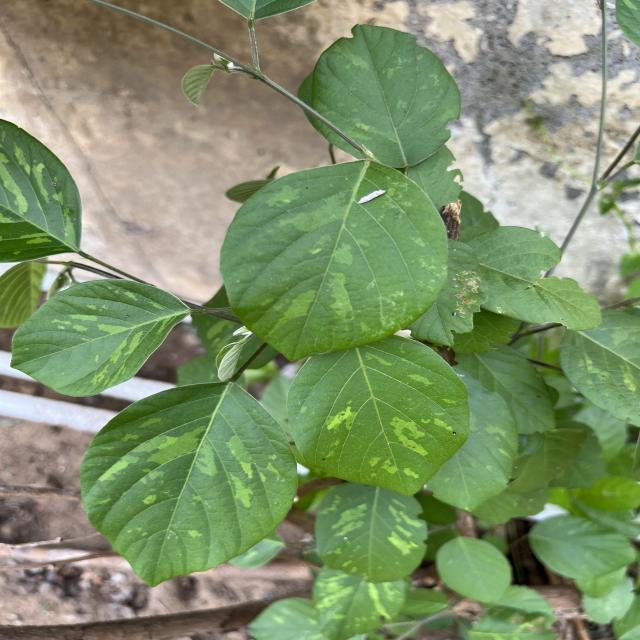Desmodium gangeticum: (76, 378, 302, 590), (284, 333, 474, 500), (8, 276, 194, 400)
